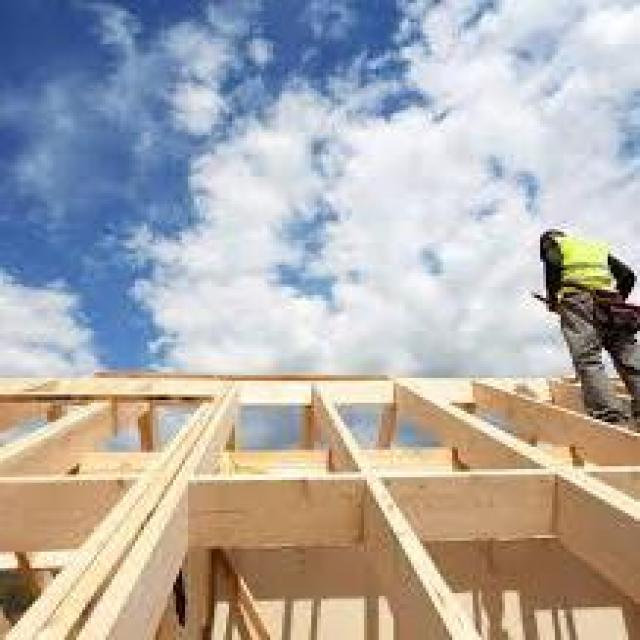Reflective-Jacket: (532, 226, 632, 317)
